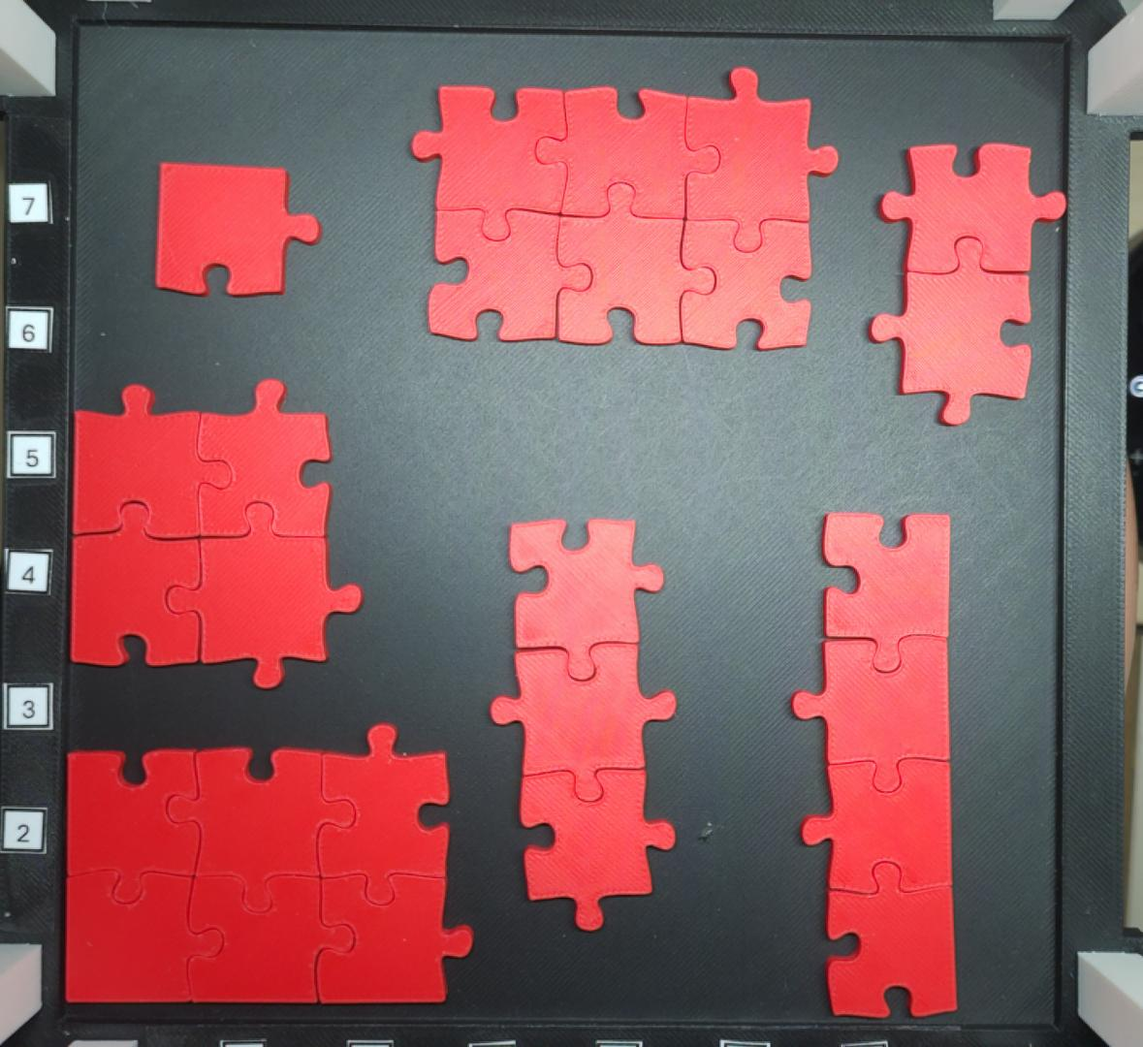p_1: (151, 161, 321, 297)
p_2: (870, 142, 1068, 427)
p_3: (488, 519, 678, 932)
p_4: (74, 378, 363, 689), (791, 510, 961, 1018)
p_m: (411, 69, 838, 346), (65, 724, 476, 1002)
